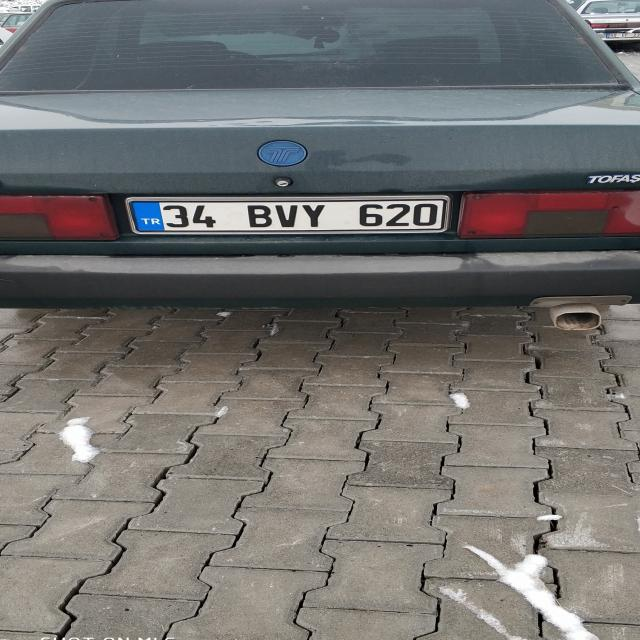license_plate: (130, 199, 446, 232)
